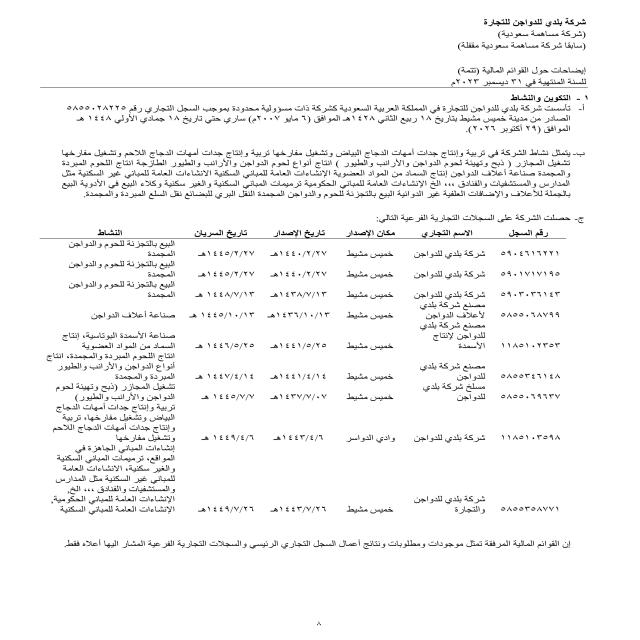notes: (440, 64, 601, 75)
table: (33, 215, 591, 535)
